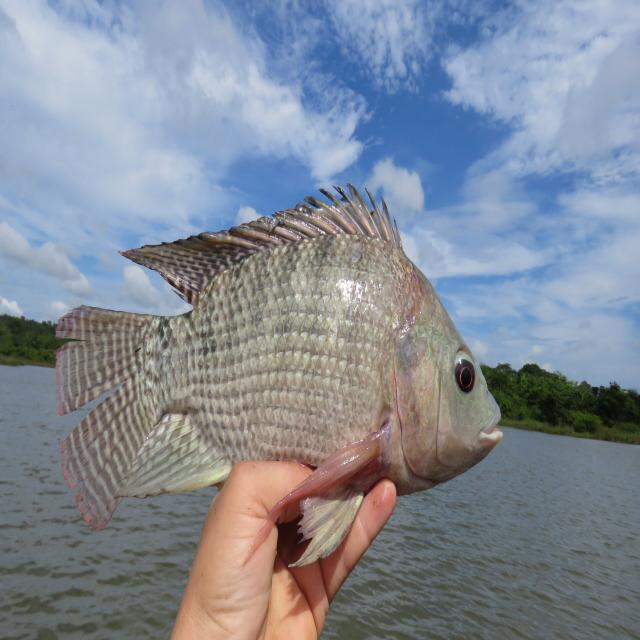ikan: (40, 153, 532, 546)
